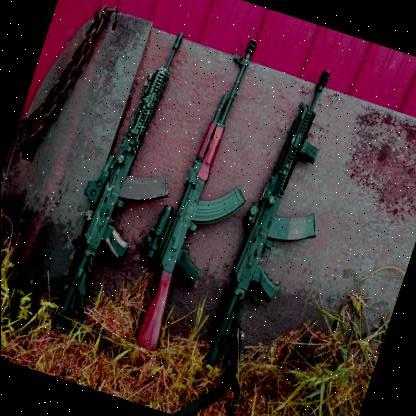rifle: (196, 48, 375, 395), (117, 27, 287, 373), (55, 19, 212, 337)
